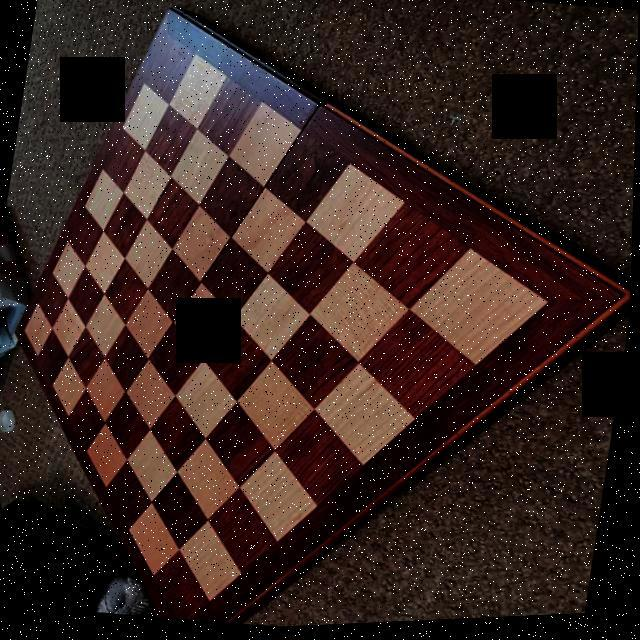chess-table-corners: (502, 256, 592, 340), (148, 20, 202, 68), (18, 303, 51, 343), (168, 598, 216, 625)
